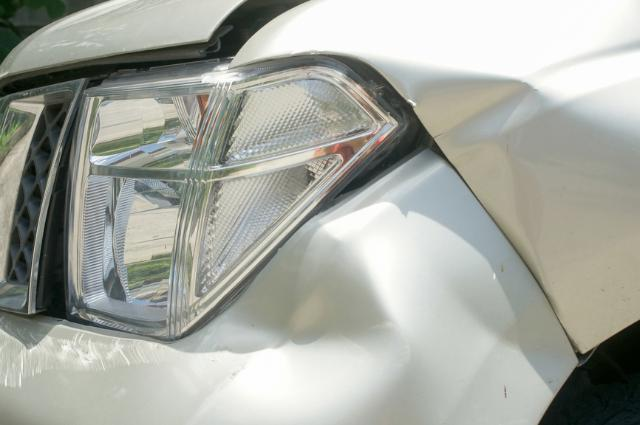Bumper: (0, 153, 588, 425)
Fender: (234, 0, 640, 342)
